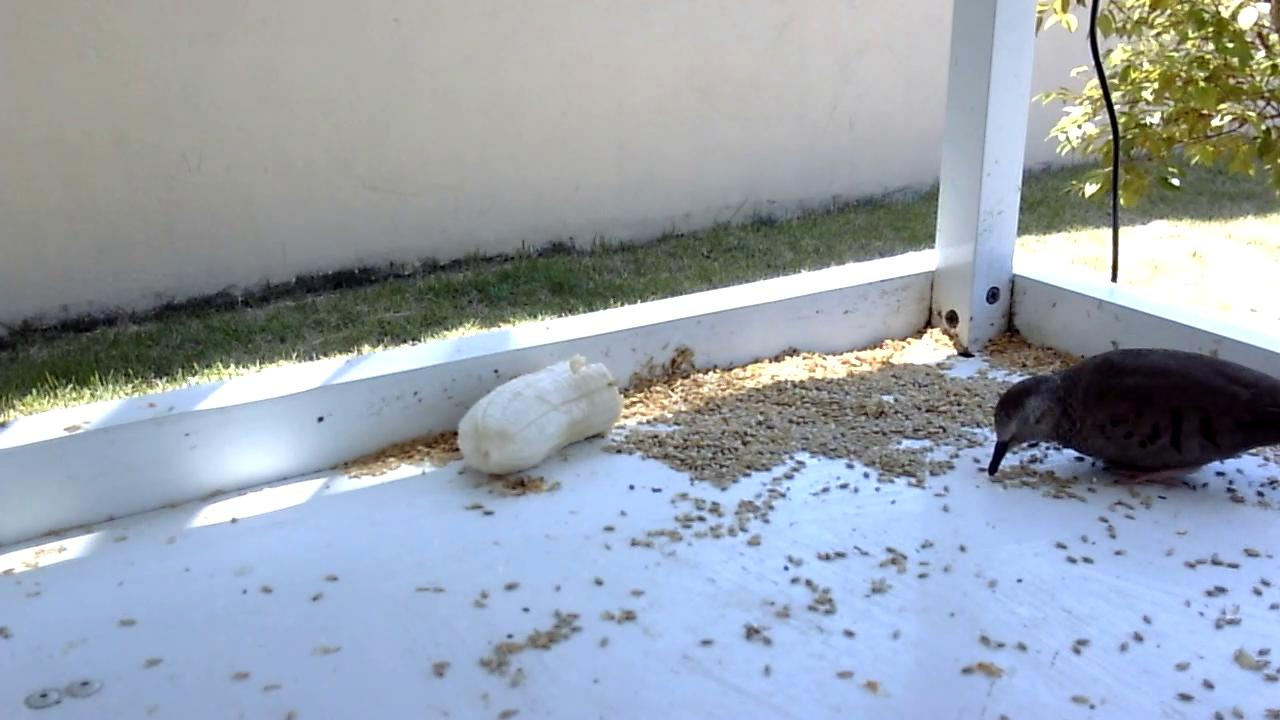rolinha: (985, 343, 1280, 493)
